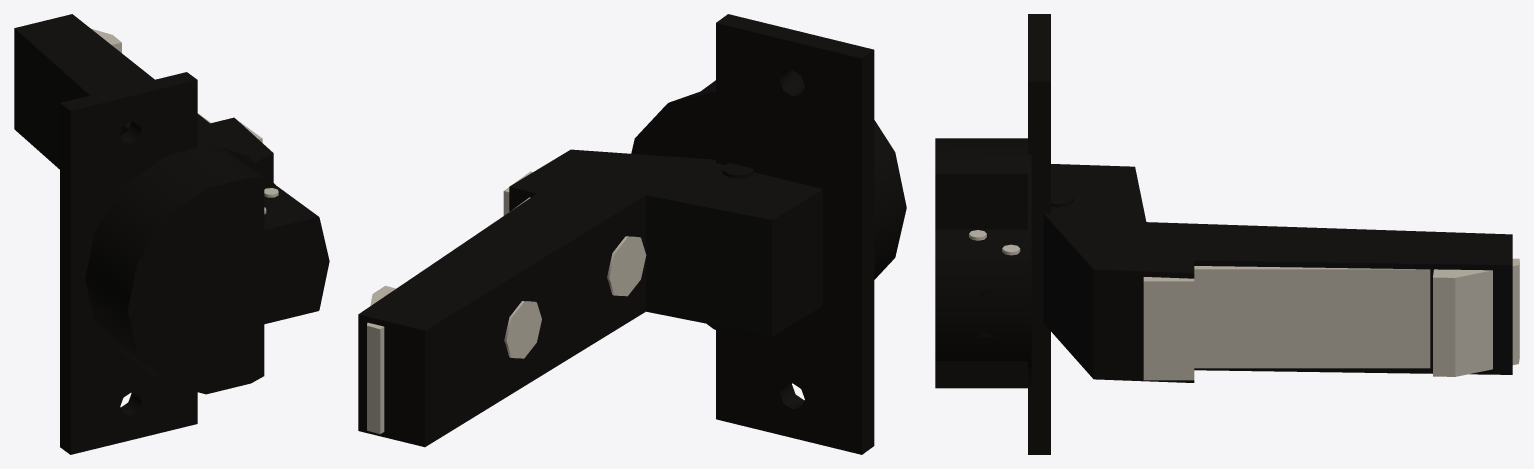
The picture shows the model from 3 angles, left to right: view 1: azimuth 30°, elevation 25°; view 2: azimuth 150°, elevation 25°; view 3: azimuth 270°, elevation 25°; orthographic projection. The views are drawn at different scales.
Parts seen in each view (by area): view 1: bau0015089612-1, bau0015113441-1, bau0019416036-1; view 2: bau0015113441-1, bau0015089612-1, bau0019416036-1; view 3: bau0015113441-1, bau0019416036-1, bau0015089612-1.
Boxes of the visible parts, <box> form: bau0015089612-1: <box>60,72,329,454</box>; bau0015113441-1: <box>14,14,273,181</box>; bau0019416036-1: <box>91,28,262,142</box>; bau0015113441-1: <box>358,149,822,447</box>; bau0015089612-1: <box>631,14,906,454</box>; bau0019416036-1: <box>367,171,532,434</box>; bau0015113441-1: <box>1043,164,1512,382</box>; bau0019416036-1: <box>1143,258,1519,380</box>; bau0015089612-1: <box>935,14,1050,454</box>.
Size of the model in its own units: 42.5 by 57 by 80.78.
